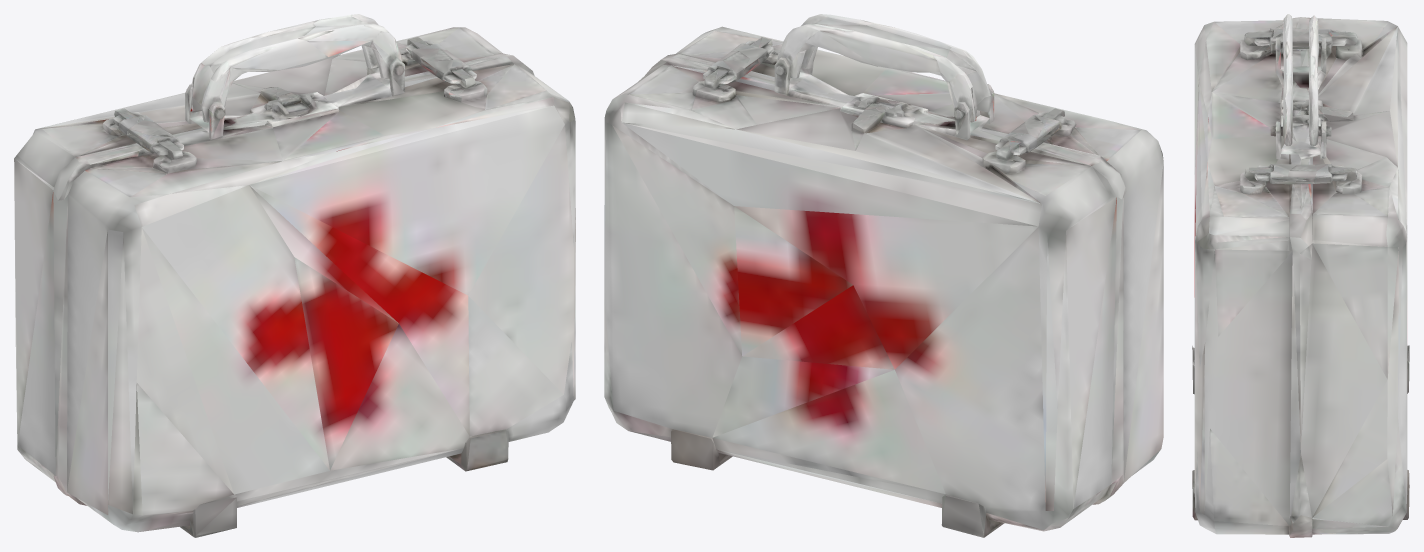
Rendered from medkit.glb.
3 views of the same model, side by side, from view 1: azimuth 30°, elevation 25°; view 2: azimuth 150°, elevation 25°; view 3: azimuth 270°, elevation 25° (orthographic). The views are drawn at different scales.
Parts seen in each view (by area): view 1: Mesh_0; view 2: Mesh_0; view 3: Mesh_0.
Boxes of the visible parts, x1,y1,x2,y2 form: Mesh_0: (14, 14, 575, 537); Mesh_0: (604, 14, 1163, 537); Mesh_0: (1192, 14, 1409, 537).
Bounding box in the file's own units: 1.9 × 1.64 × 0.7931.
1 material, 1 textured.
